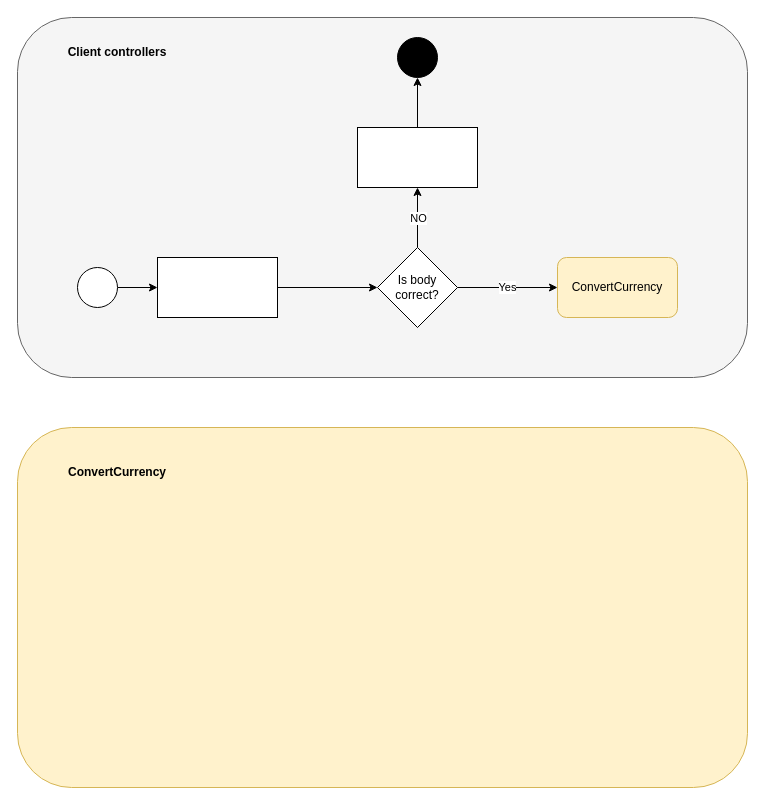
Some shapes in this 765 by 805 pixel diagram are drawn without their labels. Here are the shapes that lost their labels. From the top down, the centre of each, then its label:
pixel 417 157: Send error message
pixel 217 287: POST /convert
